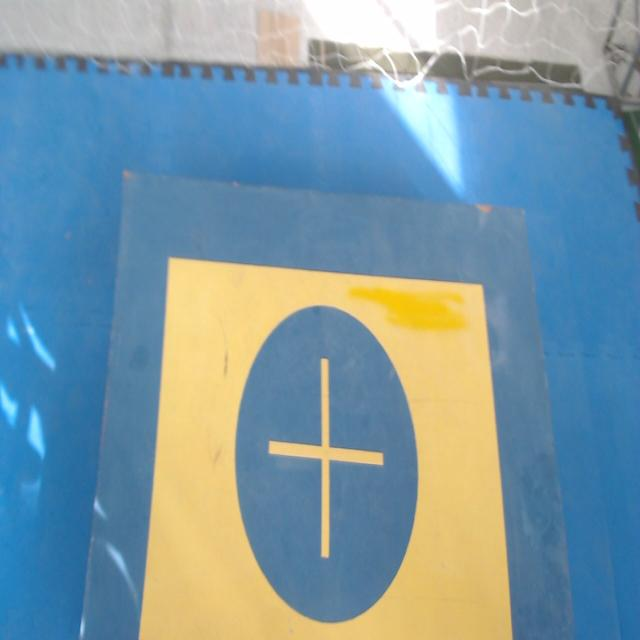base_inicio: (138, 259, 513, 639)
